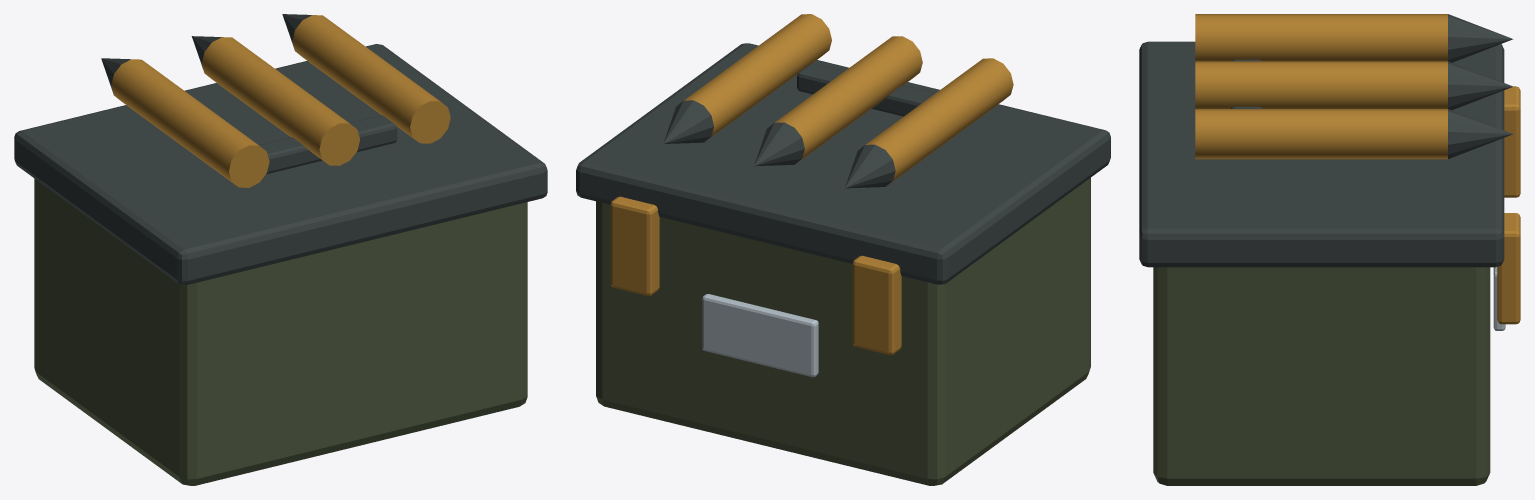
Rendered from noir-ammo-precision.glb.
3 renders of one model, left to right at view 1: azimuth 30°, elevation 25°; view 2: azimuth 150°, elevation 25°; view 3: azimuth 270°, elevation 25°, orthographic. The views are drawn at different scales.
Visible parts, largest first — view 1: noir-ammo-precision mesh; view 2: noir-ammo-precision mesh; view 3: noir-ammo-precision mesh.
Part boxes in pixels (bbox=[...]): noir-ammo-precision mesh: bbox=[14, 14, 547, 485]; noir-ammo-precision mesh: bbox=[576, 14, 1110, 485]; noir-ammo-precision mesh: bbox=[1139, 14, 1520, 485].
Size of the model in its own units: 0.49 by 0.397 by 0.4075.
